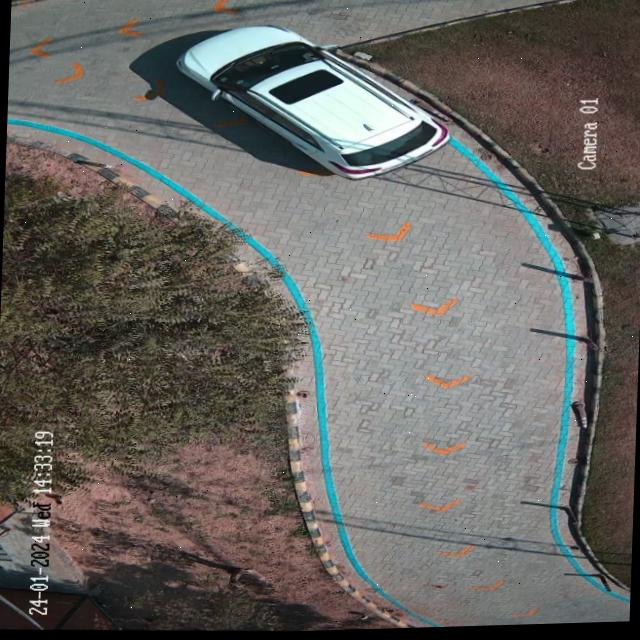car: (177, 28, 446, 180)
